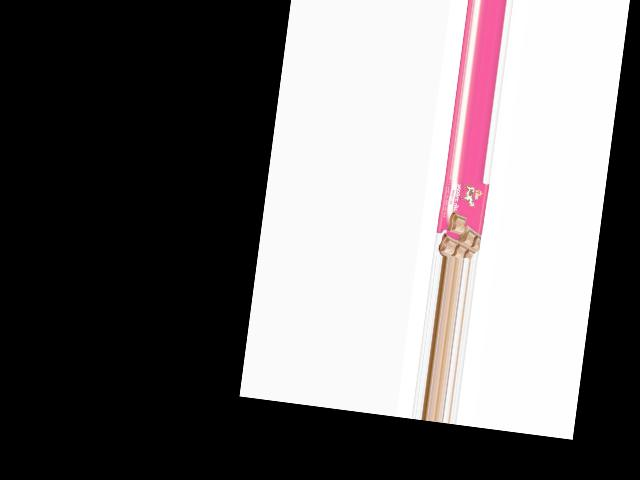chocolate: (432, 176, 488, 260)
